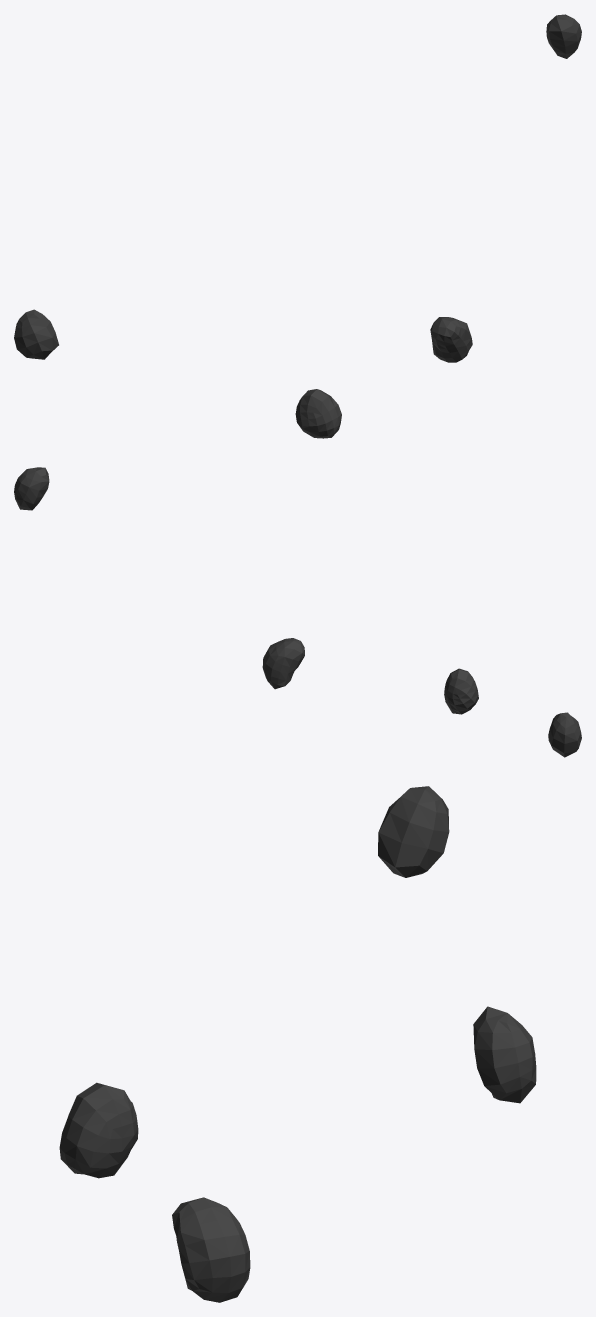
The model's file is Dorsal_R.glb.
3 renders of one model, top to bottom at view 1: azimuth 30°, elevation 25°; view 2: azimuth 150°, elevation 25°; view 3: azimuth 270°, elevation 25°, orthographic. The views are drawn at different scales.
Visible parts, largest first — view 1: Dorsal_R; view 2: Dorsal_R; view 3: Dorsal_R.
Boxes of the visible parts, left/top/right/bottom form: Dorsal_R: left=14, top=14, right=581, bottom=438; Dorsal_R: left=14, top=467, right=581, bottom=757; Dorsal_R: left=59, top=786, right=536, bottom=1302.
Bounding box in the file's own units: 2.02 × 0.8503 × 0.7695.
Materials: 1 (1 with a texture image).
